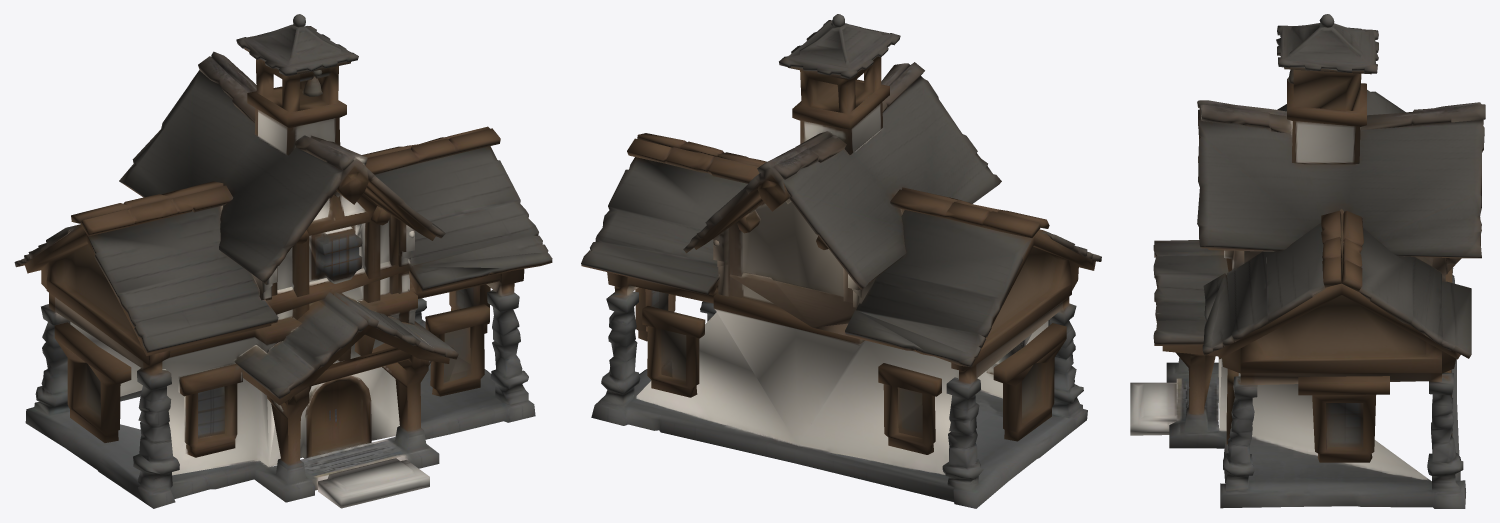
Rendered from hall.glb.
3 renders of one model, left to right at view 1: azimuth 30°, elevation 25°; view 2: azimuth 150°, elevation 25°; view 3: azimuth 270°, elevation 25°, orthographic. The views are drawn at different scales.
Visible parts, largest first — view 1: tripo_node_62da217f-3765-4aaf-83d1-db40c8b111b6; view 2: tripo_node_62da217f-3765-4aaf-83d1-db40c8b111b6; view 3: tripo_node_62da217f-3765-4aaf-83d1-db40c8b111b6.
Boxes of the visible parts, left/top/right/bottom form: tripo_node_62da217f-3765-4aaf-83d1-db40c8b111b6: left=14, top=14, right=552, bottom=508; tripo_node_62da217f-3765-4aaf-83d1-db40c8b111b6: left=581, top=14, right=1101, bottom=508; tripo_node_62da217f-3765-4aaf-83d1-db40c8b111b6: left=1130, top=14, right=1485, bottom=508.
Size of the model in its own units: 0.998 by 0.9434 by 0.748.
1 material, 1 textured.
